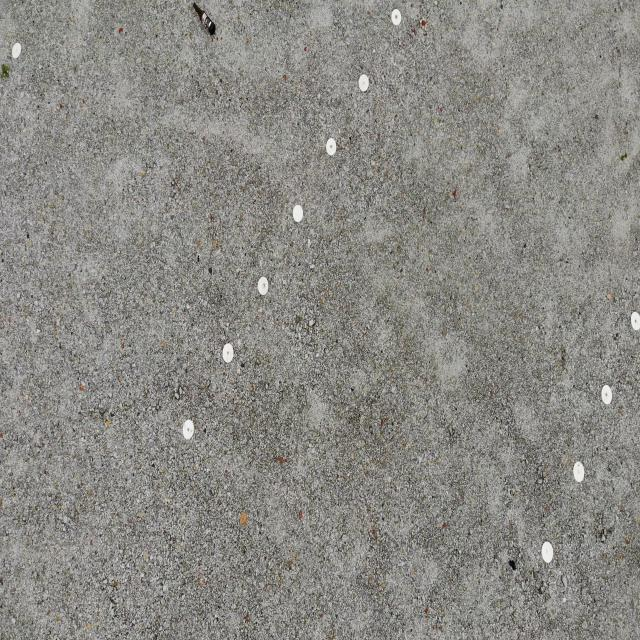rubbish: (192, 1, 216, 38)
